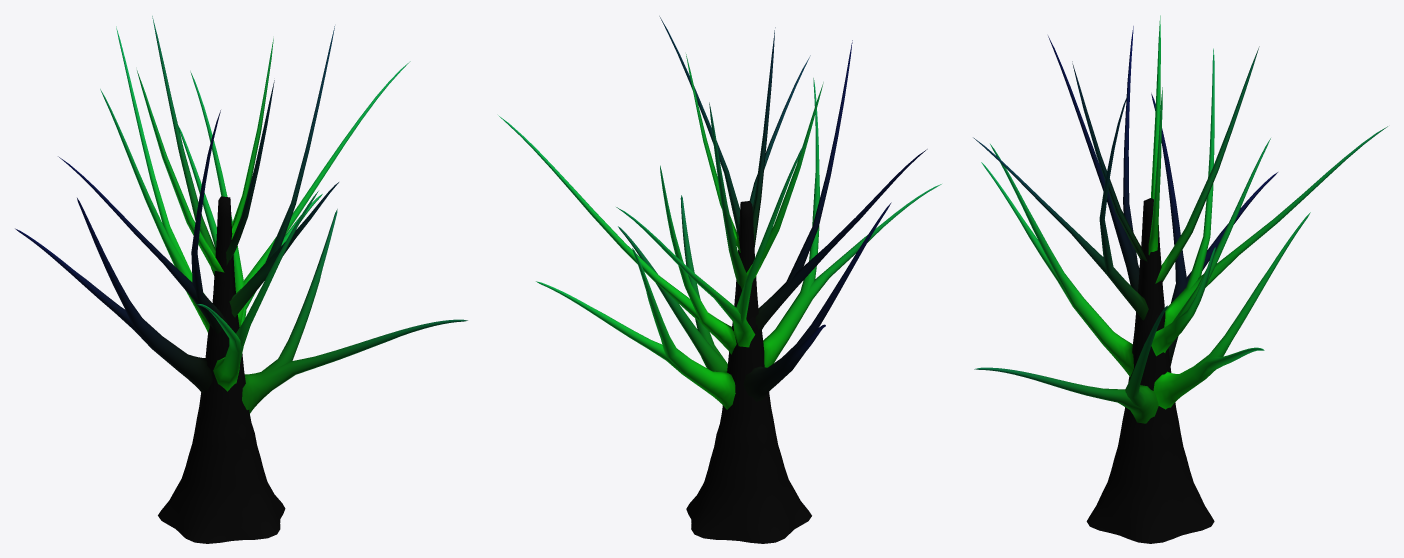
File: Bush.fbx
The picture shows the model from 3 angles, left to right: view 1: azimuth 30°, elevation 25°; view 2: azimuth 150°, elevation 25°; view 3: azimuth 270°, elevation 25°; orthographic projection.
Visible parts, largest first — view 1: _0; view 2: _0; view 3: _0.
Part boxes in pixels (bbox=[...]): _0: bbox=[15, 16, 467, 543]; _0: bbox=[498, 16, 941, 543]; _0: bbox=[973, 15, 1387, 543].
Bounding box in the file's own units: 65.02 × 75.04 × 60.16.
